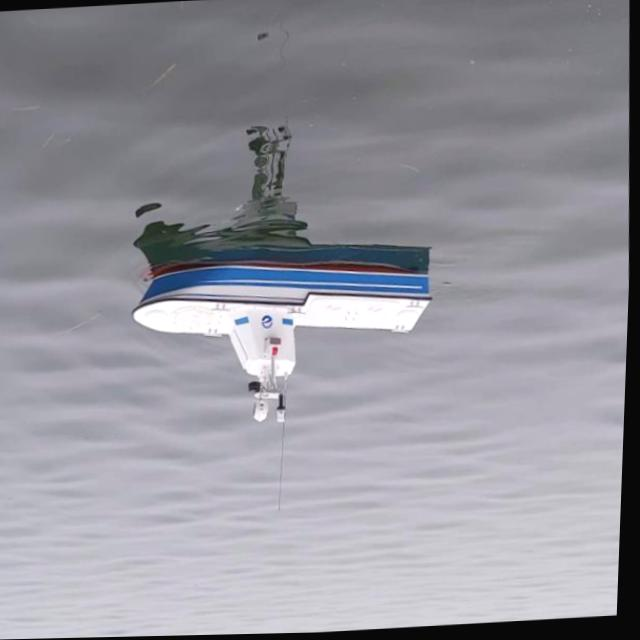ship2: (134, 235, 434, 424)
